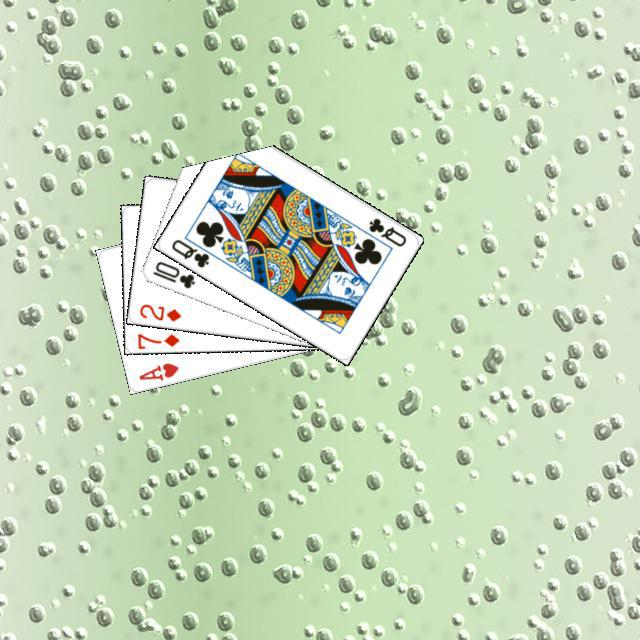10c: (148, 256, 197, 290)
2d: (135, 299, 183, 323)
7d: (132, 329, 181, 349)
Ah: (134, 358, 180, 382)
Qc: (166, 230, 219, 270), (364, 213, 408, 248)
